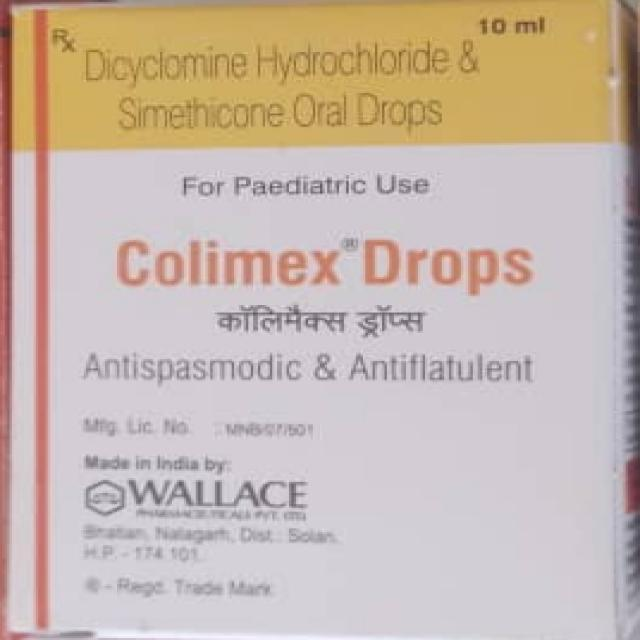drug-name: (112, 237, 349, 292)
